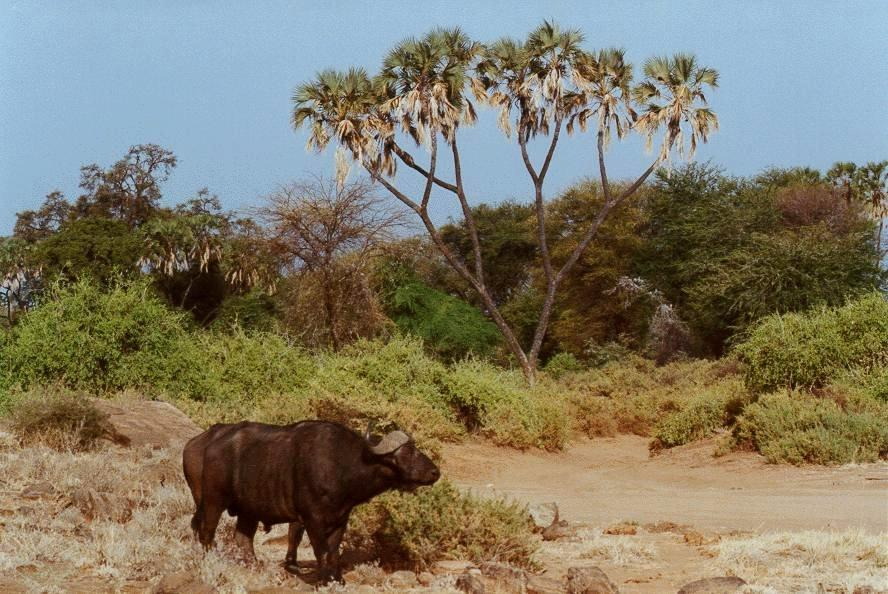Buffalo: (143, 389, 463, 588)
